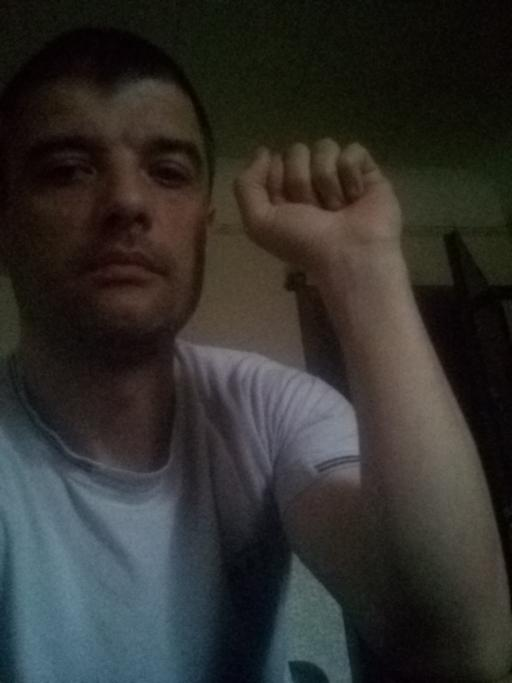fist: (231, 130, 415, 283)
